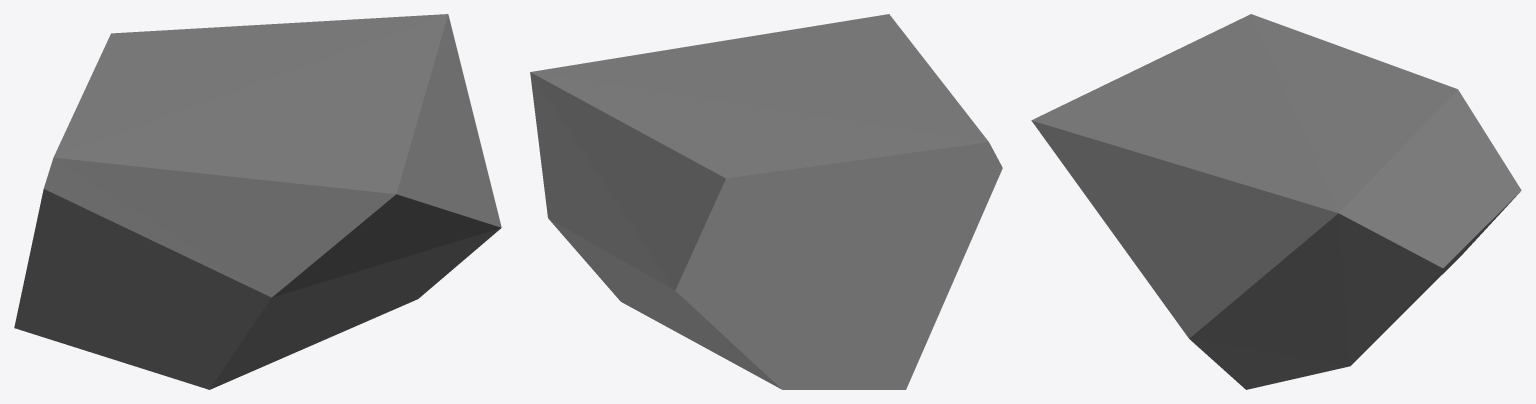
Rendered from Stone_01_Cut.fbx.
3 views of the same model, side by side, from view 1: azimuth 30°, elevation 25°; view 2: azimuth 150°, elevation 25°; view 3: azimuth 270°, elevation 25° (orthographic). The views are drawn at different scales.
Visible parts, largest first — view 1: Stone_01_Cut; view 2: Stone_01_Cut; view 3: Stone_01_Cut.
Boxes of the visible parts, x1=… form: Stone_01_Cut: x1=14, y1=14, x2=501, y2=389; Stone_01_Cut: x1=530, y1=14, x2=1002, y2=389; Stone_01_Cut: x1=1031, y1=14, x2=1521, y2=389.
Bounding box in the file's own units: 300 × 155 × 301.
